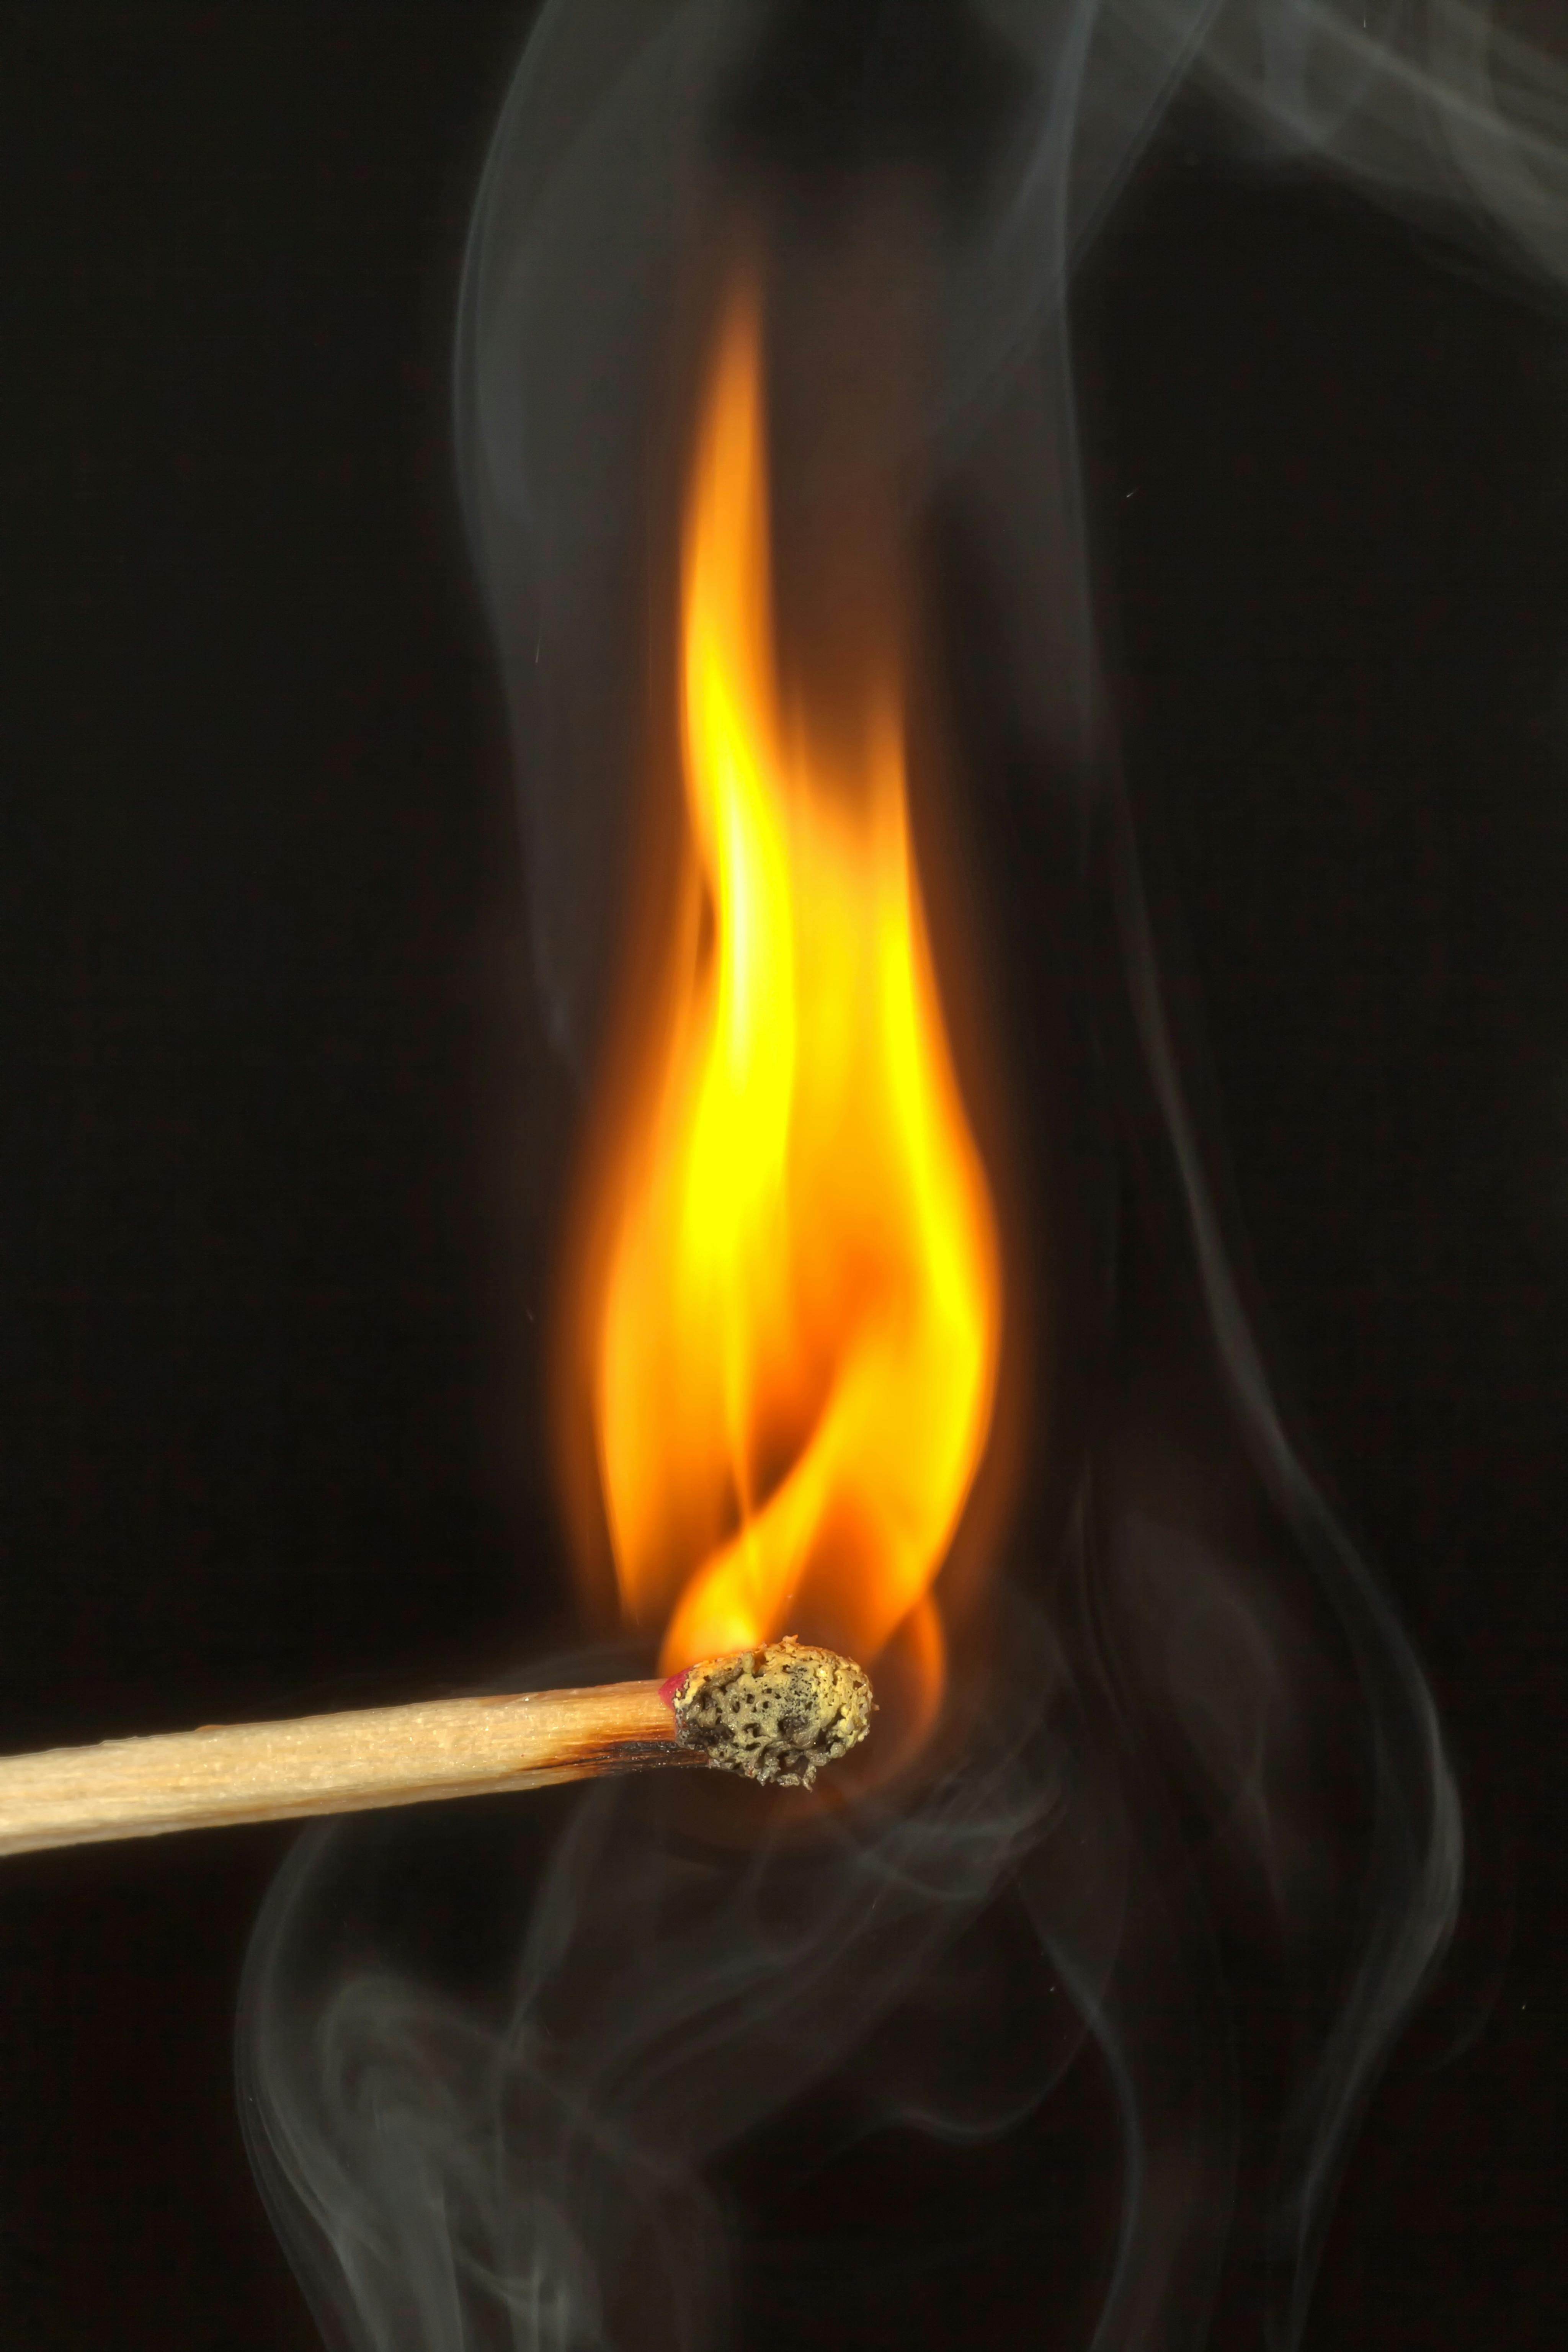Fire: (521, 238, 1029, 1820)
